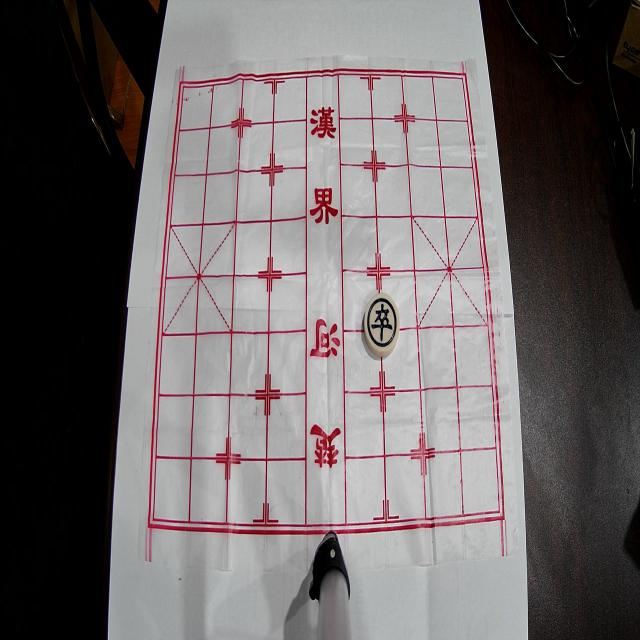black-soldier: (363, 292, 400, 357)
